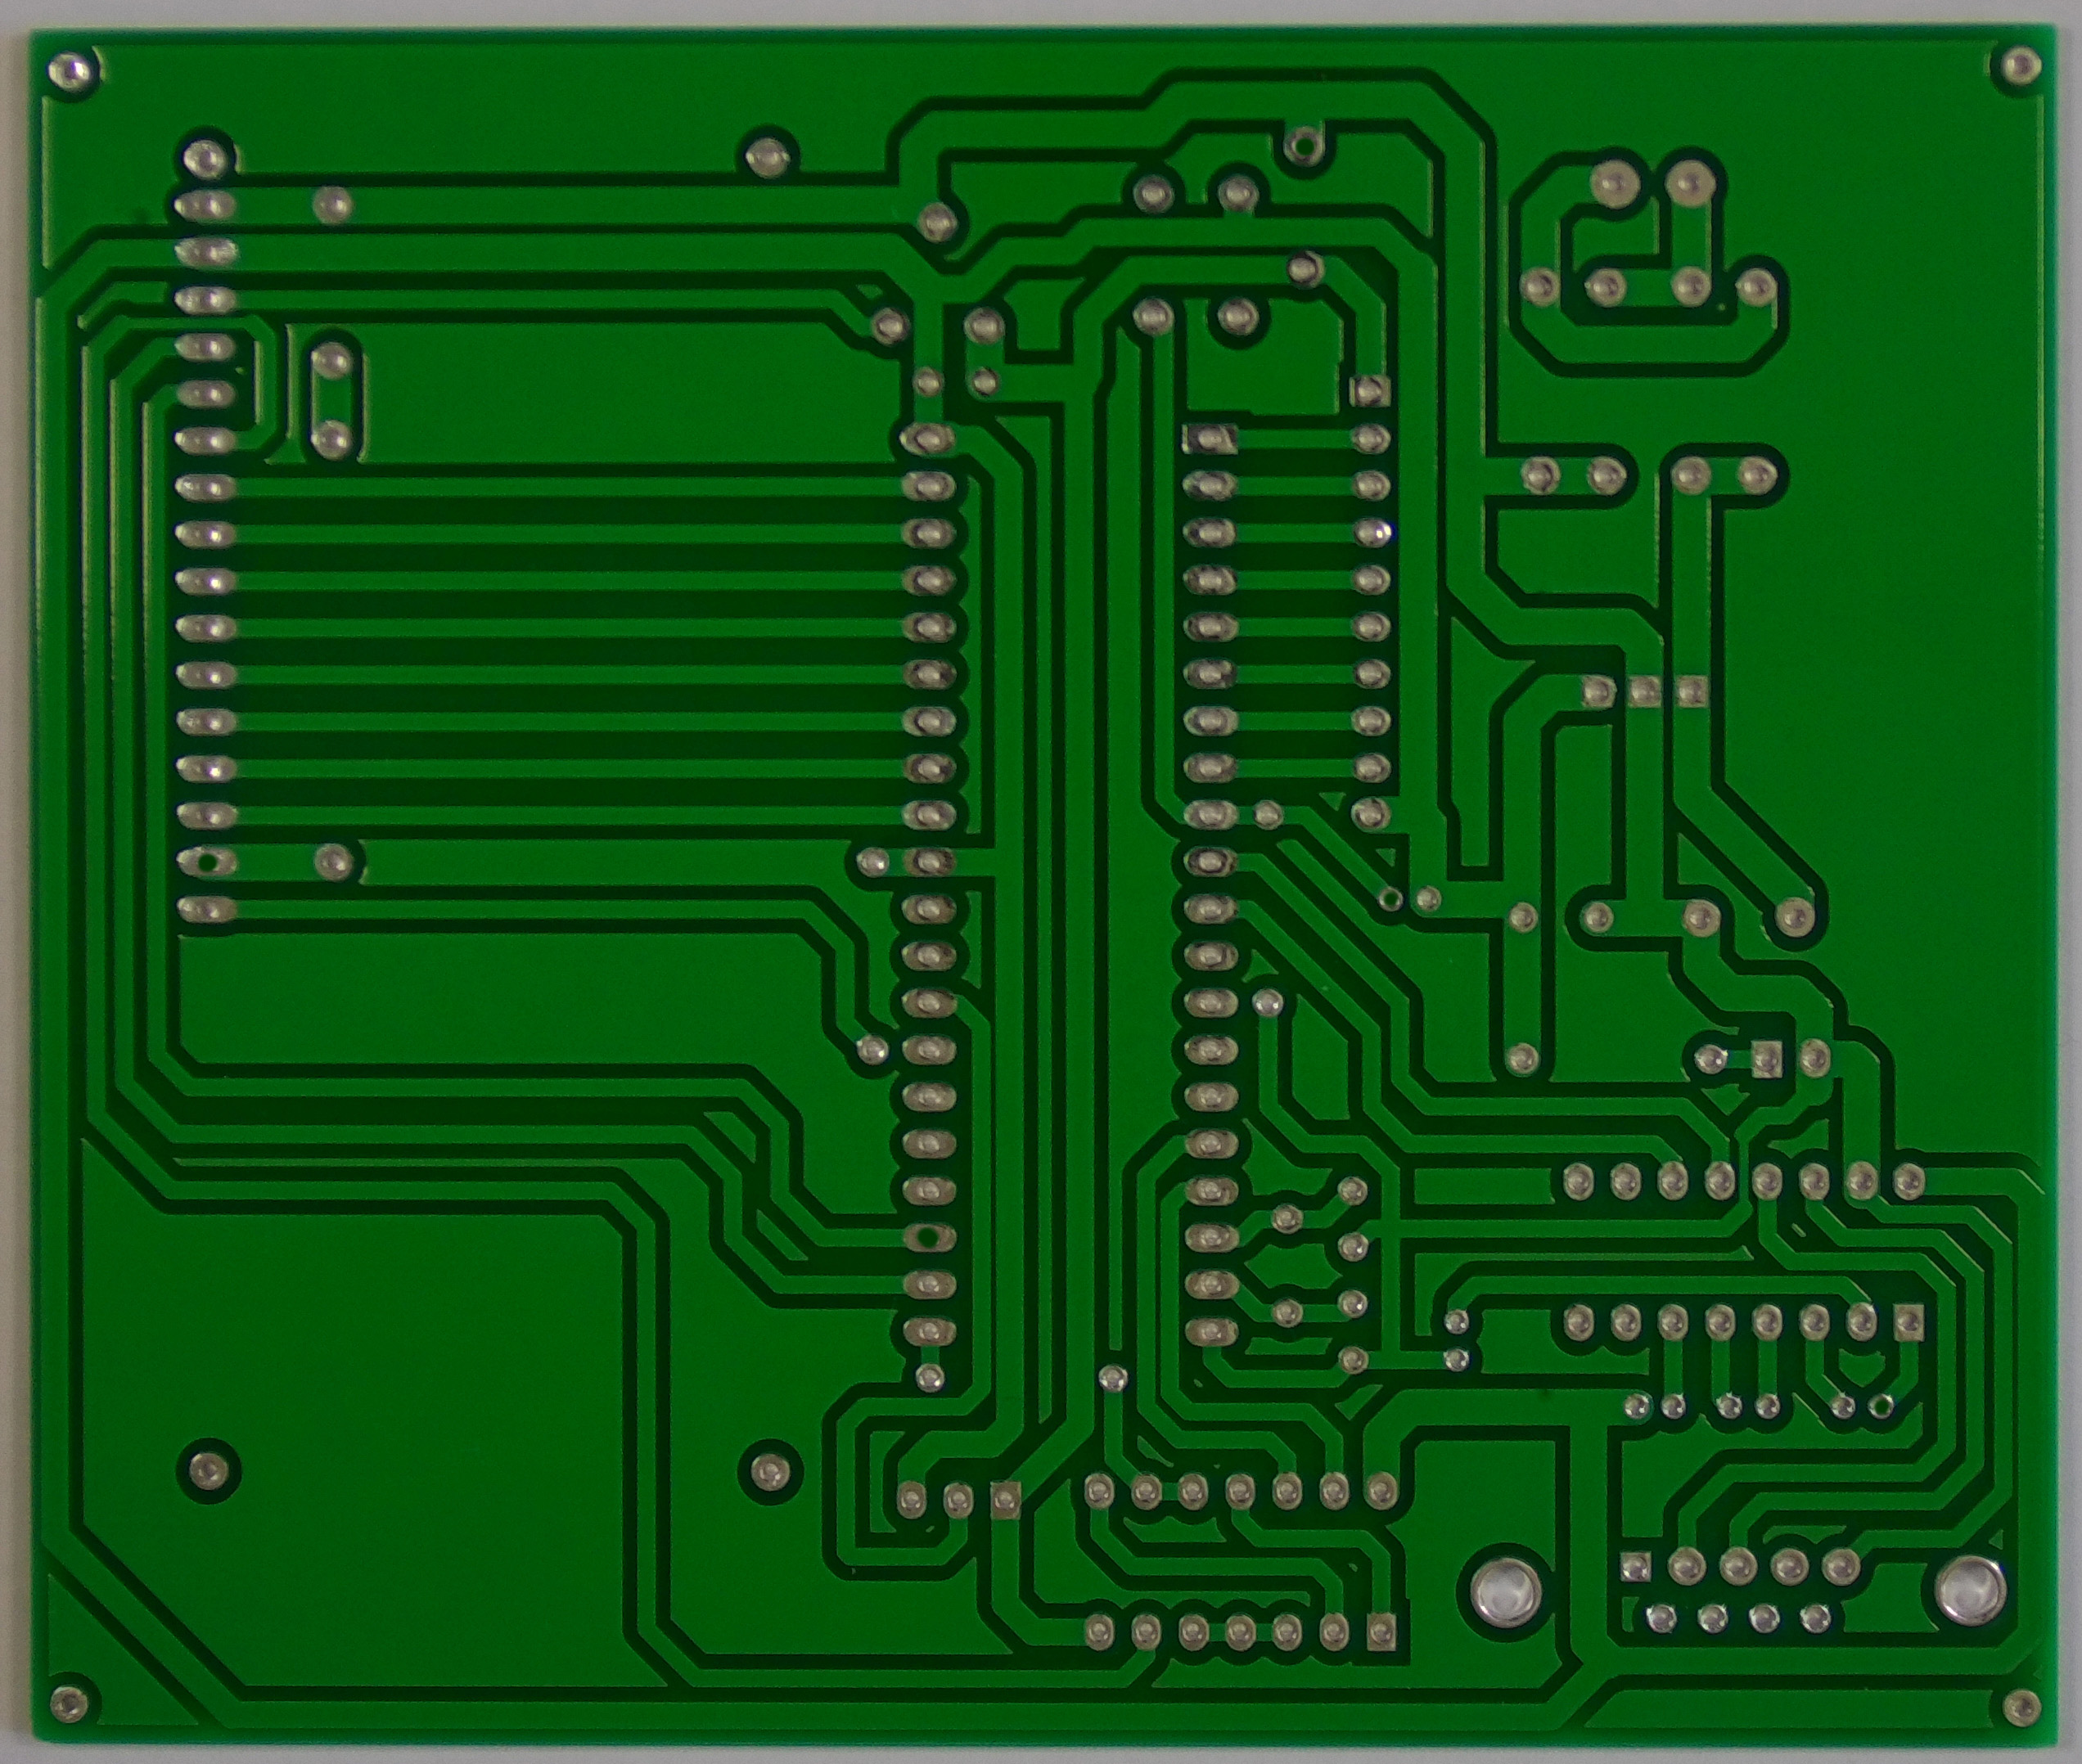missing_hole: (179, 835, 230, 887), (903, 1210, 952, 1262), (1278, 119, 1330, 169), (1367, 876, 1411, 920), (1861, 1384, 1903, 1426)
